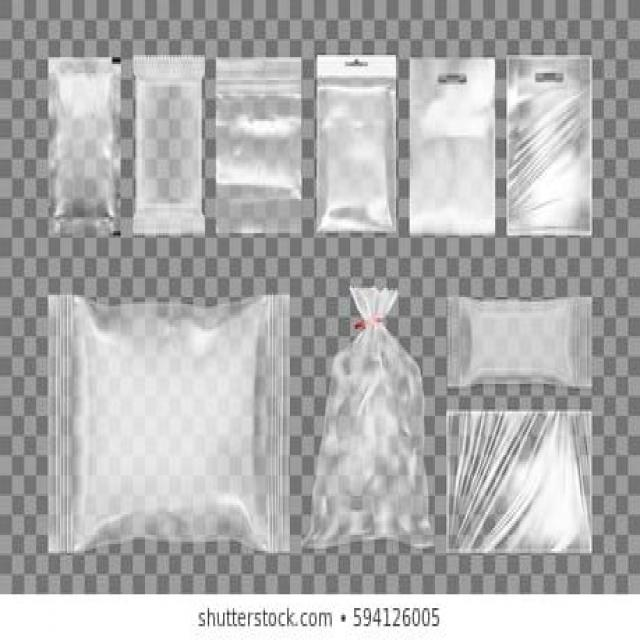plastic_bag: (28, 263, 296, 571), (304, 278, 438, 563), (445, 407, 601, 571), (406, 53, 502, 258), (443, 284, 598, 405), (505, 55, 601, 244), (312, 51, 403, 246), (214, 55, 309, 238), (132, 48, 210, 244), (46, 57, 123, 226)
